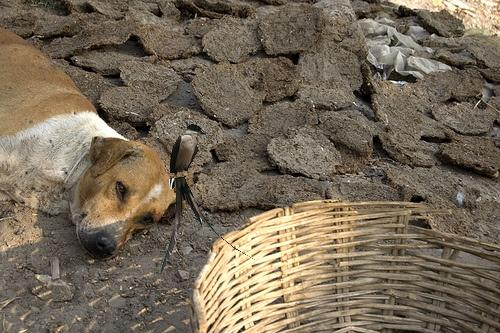tampered: (162, 25, 259, 272)
